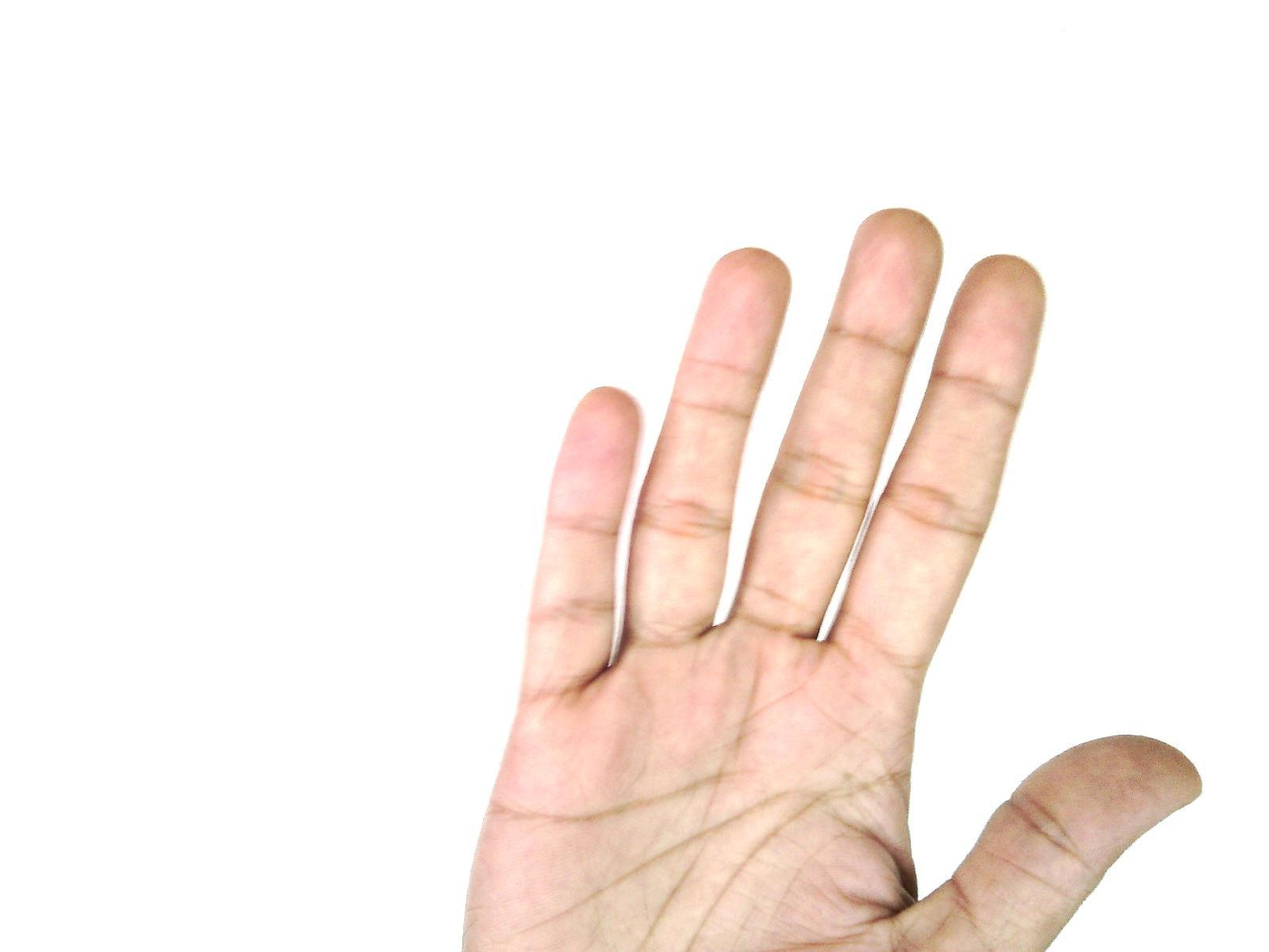open_palm: (458, 207, 1204, 952)
